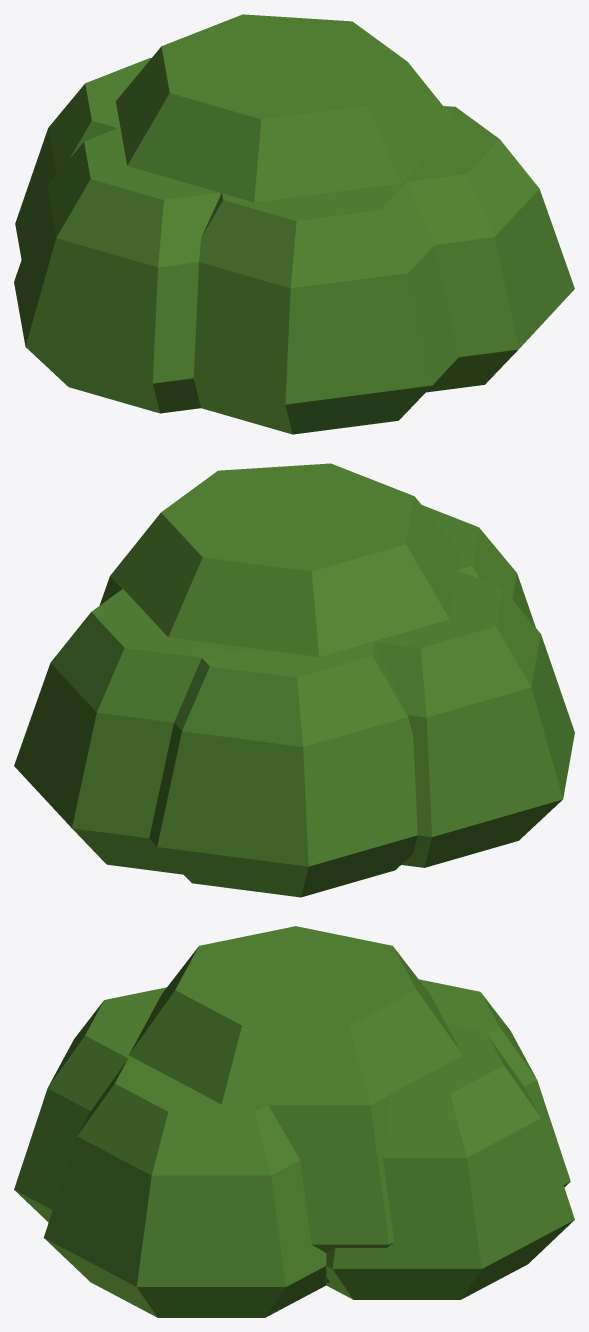
The model's file is bush_c.glb.
The picture shows the model from 3 angles, top to bottom: view 1: azimuth 30°, elevation 25°; view 2: azimuth 150°, elevation 25°; view 3: azimuth 270°, elevation 25°; orthographic projection. The views are drawn at different scales.
Visible parts, largest first — view 1: bush_c; view 2: bush_c; view 3: bush_c.
Part boxes in pixels (left/top/right/bottom): bush_c: left=14, top=14, right=574, bottom=434; bush_c: left=14, top=463, right=574, bottom=897; bush_c: left=14, top=926, right=574, bottom=1317.
Bounding box in the file's own units: 0.5694 × 0.3062 × 0.6051.
